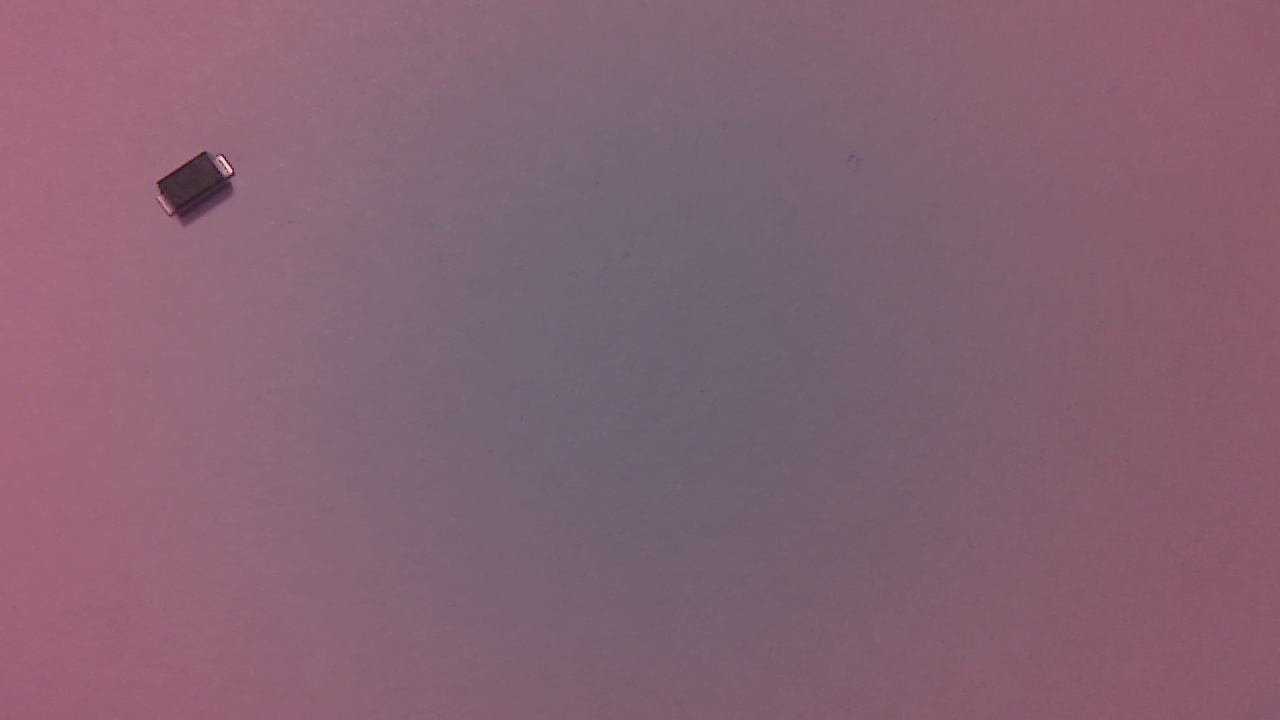Diode: (160, 148, 239, 235)
